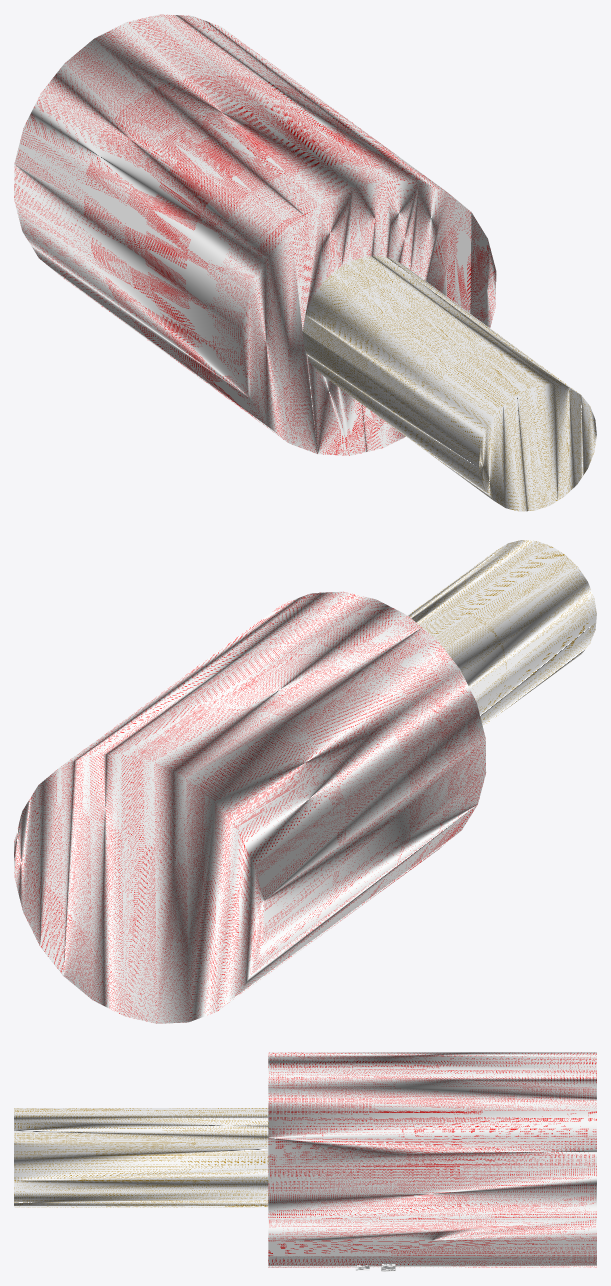
Rendered from model_align.obj.
The picture shows the model from 3 angles, top to bottom: view 1: azimuth 30°, elevation 25°; view 2: azimuth 150°, elevation 25°; view 3: azimuth 270°, elevation 25°; orthographic projection. The views are drawn at different scales.
Size of the model in its own units: 0.0773 by 0.0809 by 0.2104.
